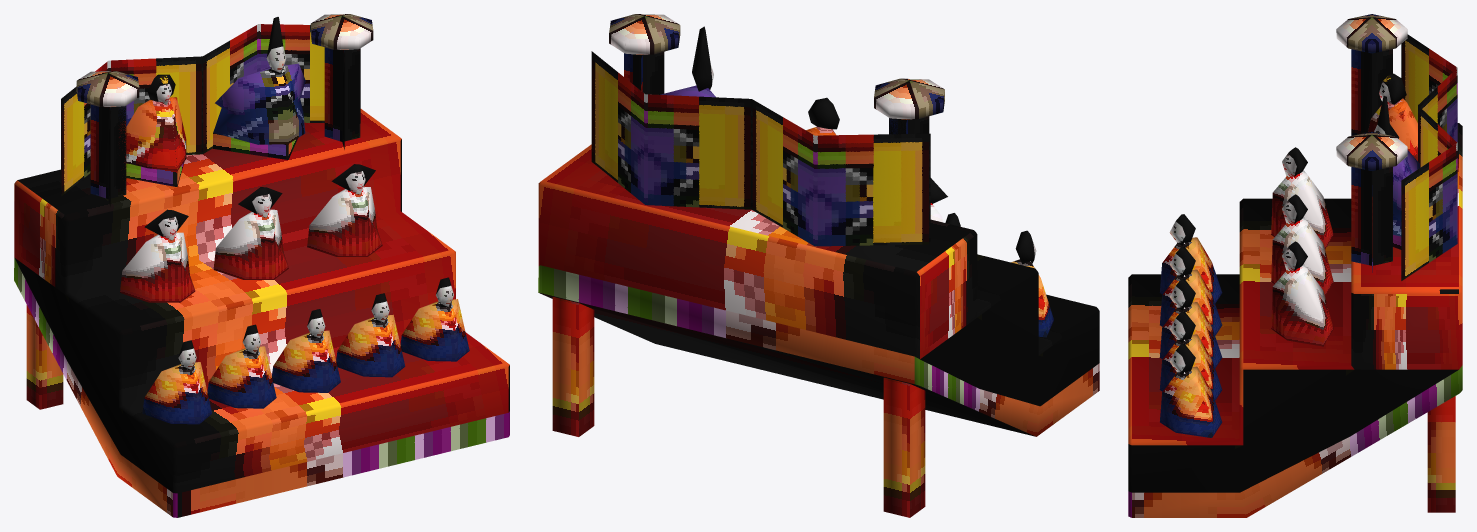
Rendered from int_oth_hinadolls.dae.
3 views of the same model, side by side, from view 1: azimuth 30°, elevation 25°; view 2: azimuth 150°, elevation 25°; view 3: azimuth 270°, elevation 25° (orthographic). The views are drawn at different scales.
Parts seen in each view (by area): view 1: int_oth_hinadolls; view 2: int_oth_hinadolls; view 3: int_oth_hinadolls.
Part boxes in pixels (left/top/right/bottom): int_oth_hinadolls: left=14, top=14, right=509, bottom=517; int_oth_hinadolls: left=538, top=14, right=1099, bottom=517; int_oth_hinadolls: left=1128, top=14, right=1462, bottom=517.
Size of the model in its own units: 57.6 by 58.15 by 48.
Materials: 2 (2 with a texture image).
